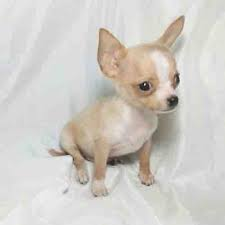chihuahua: (56, 12, 190, 189)
